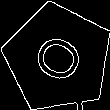O_SE: (26, 27, 90, 88)
